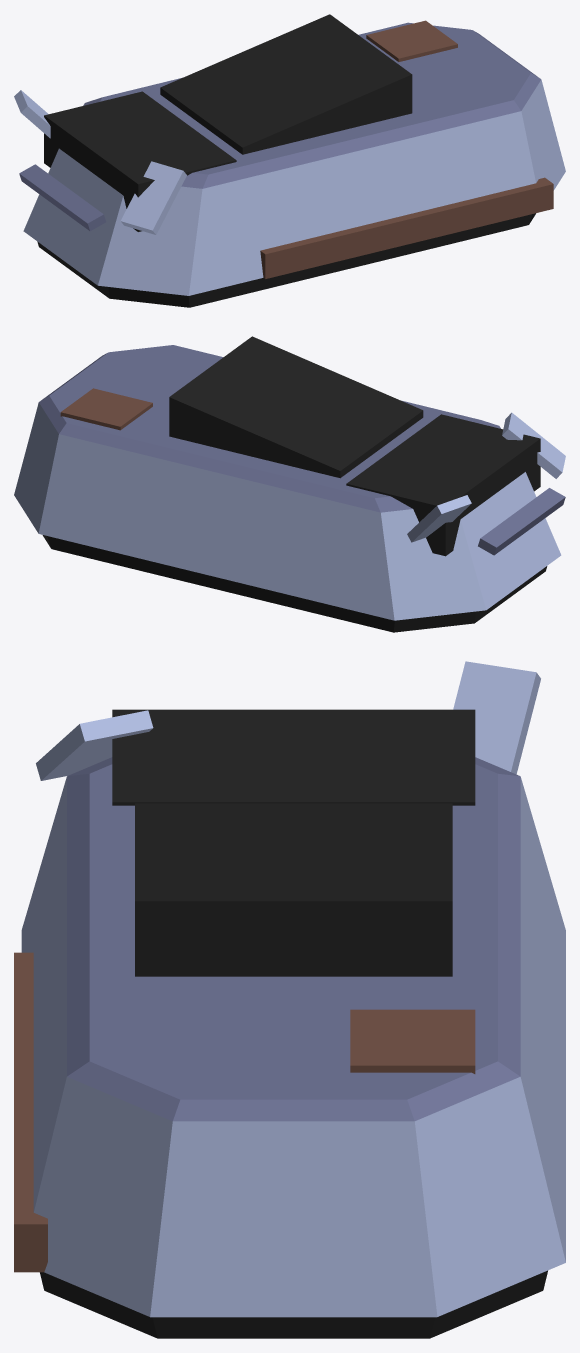
The model's file is junk_pod_car.obj.
3 renders of one model, top to bottom at view 1: azimuth 30°, elevation 25°; view 2: azimuth 150°, elevation 25°; view 3: azimuth 270°, elevation 25°, orthographic. The views are drawn at different scales.
Parts seen in each view (by area): view 1: junk_pod_car_1, junk_pod_car_3, junk_pod_car_2, junk_pod_car_4, junk_pod_car_8, junk_pod_car_0, junk_pod_car_6, junk_pod_car_9, junk_pod_car_7, junk_pod_car_5; view 2: junk_pod_car_1, junk_pod_car_3, junk_pod_car_2, junk_pod_car_4, junk_pod_car_0, junk_pod_car_9, junk_pod_car_7, junk_pod_car_6, junk_pod_car_5; view 3: junk_pod_car_1, junk_pod_car_2, junk_pod_car_3, junk_pod_car_4, junk_pod_car_0, junk_pod_car_9, junk_pod_car_8, junk_pod_car_5, junk_pod_car_6.
Boxes of the visible parts, x1=… form: junk_pod_car_1: x1=23, y1=80, x2=565, y2=295; junk_pod_car_3: x1=160, y1=14, x2=412, y2=154; junk_pod_car_2: x1=83, y1=22, x2=541, y2=188; junk_pod_car_4: x1=44, y1=91, x2=236, y2=231; junk_pod_car_8: x1=260, y1=177, x2=553, y2=278; junk_pod_car_0: x1=37, y1=213, x2=535, y2=307; junk_pod_car_6: x1=121, y1=161, x2=186, y2=234; junk_pod_car_9: x1=366, y1=20, x2=457, y2=61; junk_pod_car_7: x1=19, y1=164, x2=106, y2=231; junk_pod_car_5: x1=14, y1=90, x2=50, y2=138; junk_pod_car_1: x1=14, y1=402, x2=561, y2=620; junk_pod_car_3: x1=169, y1=336, x2=423, y2=478; junk_pod_car_2: x1=39, y1=345, x2=500, y2=512; junk_pod_car_4: x1=346, y1=414, x2=540, y2=556; junk_pod_car_0: x1=42, y1=535, x2=547, y2=632; junk_pod_car_9: x1=60, y1=388, x2=152, y2=430; junk_pod_car_7: x1=478, y1=488, x2=565, y2=555; junk_pod_car_6: x1=502, y1=412, x2=565, y2=478; junk_pod_car_5: x1=407, y1=495, x2=471, y2=542; junk_pod_car_1: x1=21, y1=777, x2=565, y2=1317; junk_pod_car_2: x1=67, y1=757, x2=520, y2=1121; junk_pod_car_3: x1=135, y1=803, x2=452, y2=976; junk_pod_car_4: x1=112, y1=709, x2=475, y2=805; junk_pod_car_0: x1=40, y1=1270, x2=547, y2=1338; junk_pod_car_9: x1=350, y1=1009, x2=475, y2=1073; junk_pod_car_8: x1=14, y1=952, x2=47, y2=1272; junk_pod_car_5: x1=453, y1=661, x2=540, y2=774; junk_pod_car_6: x1=36, y1=710, x2=153, y2=780.
Bounding box in the file's own units: 2.8 × 0.88 × 1.46.
